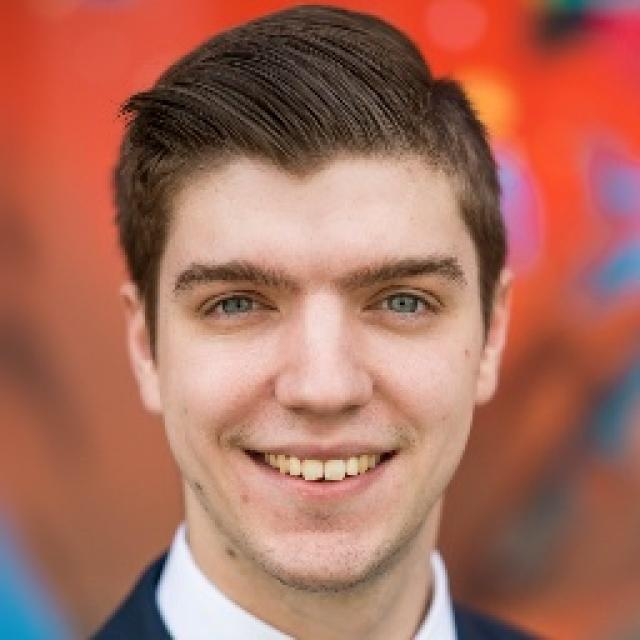earlobe: (140, 388, 166, 418), (472, 382, 499, 408)
eye: (203, 290, 276, 323), (361, 288, 439, 318)
nose: (278, 396, 372, 432)
wholeear: (472, 266, 514, 411), (122, 283, 166, 418)
